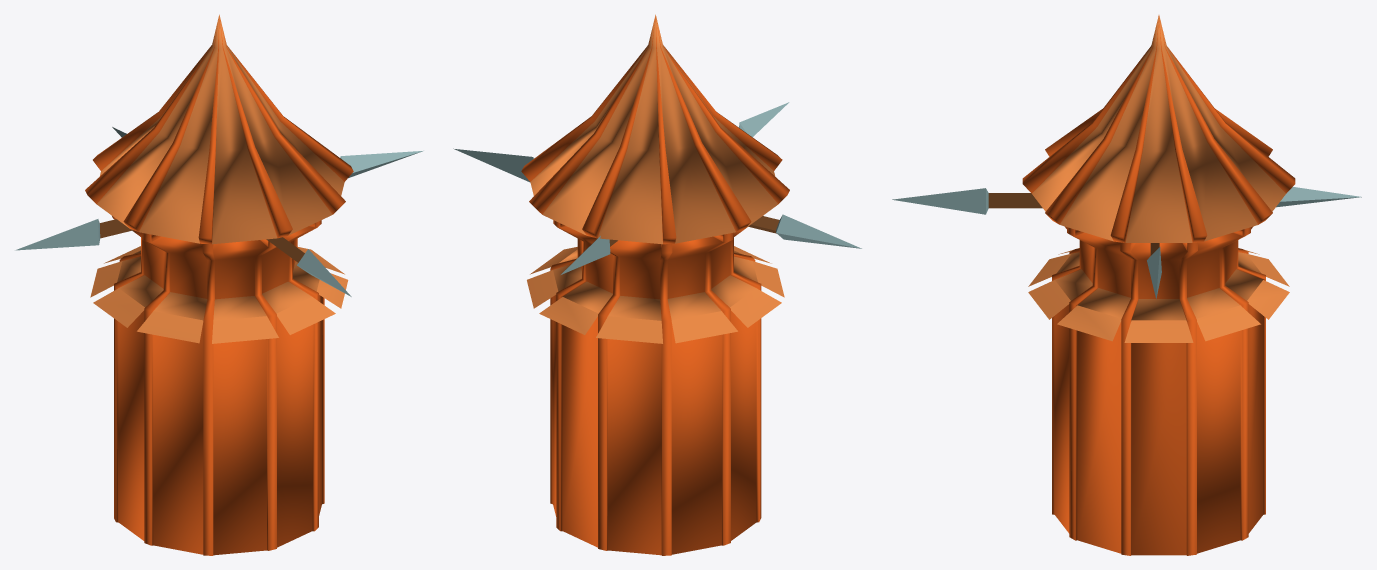
Rendered from SpearTowerModel.fbx.
3 views of the same model, side by side, from view 1: azimuth 30°, elevation 25°; view 2: azimuth 150°, elevation 25°; view 3: azimuth 270°, elevation 25° (orthographic).
Parts seen in each view (by area): view 1: Spear tower 2; view 2: Spear tower 2; view 3: Spear tower 2.
Part boxes in pixels (x1,y1,x2,y2): Spear tower 2: (15, 14, 423, 555); Spear tower 2: (453, 14, 861, 555); Spear tower 2: (892, 15, 1361, 555).
Size of the model in its own units: 2.95 by 2.93 by 3.42.
